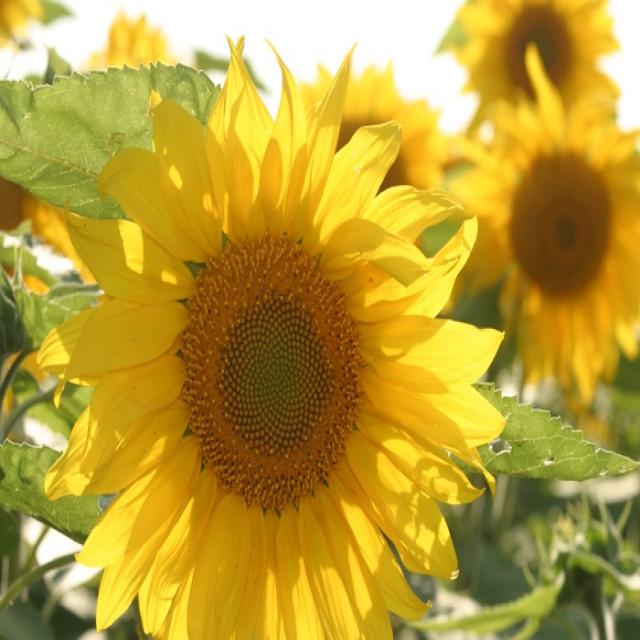sunflower: (46, 23, 505, 640), (463, 87, 640, 396)
